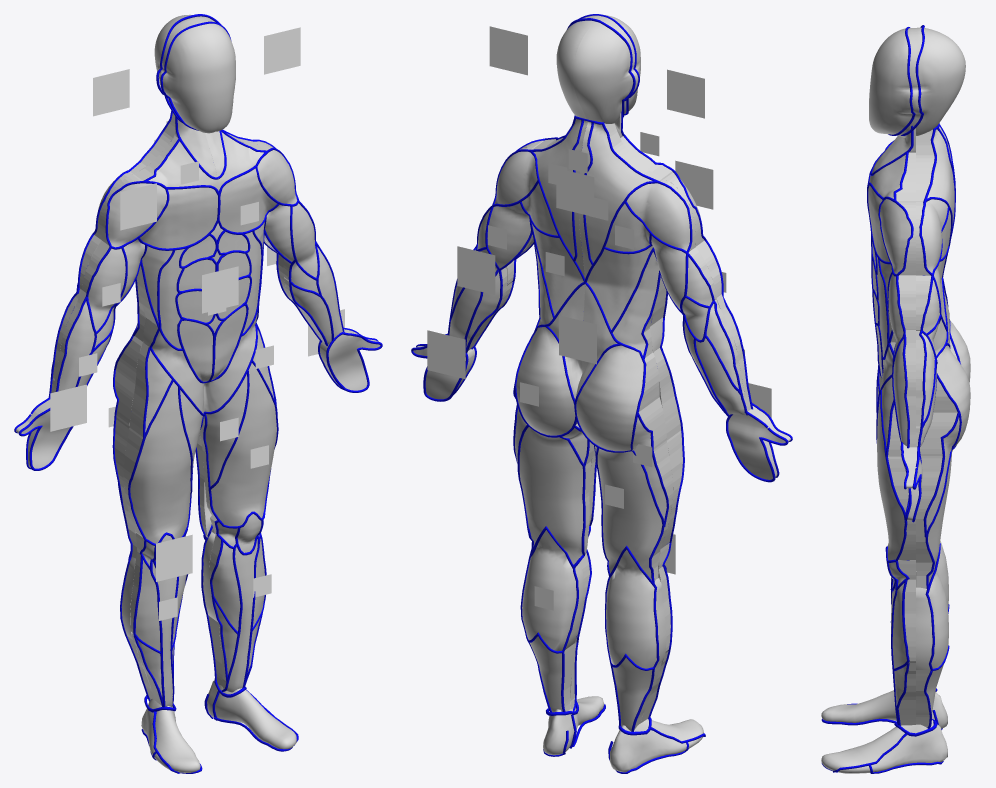
The model's file is male_07.glb.
3 renders of one model, left to right at view 1: azimuth 30°, elevation 25°; view 2: azimuth 150°, elevation 25°; view 3: azimuth 270°, elevation 25°, orthographic. The views are drawn at different scales.
Parts seen in each view (by area): view 1: quadriceps_r, head, quadriceps_l, pelvis_f, chest_r, trapecius_f, foot_l, foot_r, biceps_r, forarm1_r, chest_l, abducter_l (+39 smaller); view 2: head, hamstring_l, gluteus_r, hamstring_r, calves1_b_r, calves1_b_l, gluteus_l, trapecius_b_l, deltoid_b_r, foot_r, latisimusDorsi_b_r, abducter_r.001 (+38 smaller); view 3: head, foot_l, quadriceps_l, abducter_l.001, calves1_b_l, trapecius_b_r, deltoid_f_l, forarm1_l, gluteus_l, foot_r, deltoid_b_l, calves1_f_l (+31 smaller).
Boxes of the visible parts, x1,y1,x2,y2 form: quadriceps_r: [123, 382, 190, 543]; head: [154, 14, 235, 133]; quadriceps_l: [205, 363, 276, 526]; pelvis_f: [143, 312, 257, 413]; chest_r: [140, 187, 217, 248]; trapecius_f: [134, 132, 264, 190]; foot_l: [207, 680, 296, 749]; foot_r: [141, 698, 200, 772]; biceps_r: [82, 240, 125, 331]; forarm1_r: [52, 290, 94, 392]; chest_l: [219, 168, 276, 232]; abducter_l: [199, 374, 247, 487]; head: [556, 14, 640, 123]; hamstring_l: [519, 427, 591, 564]; gluteus_r: [576, 345, 659, 451]; hamstring_r: [597, 448, 668, 580]; calves1_b_r: [606, 549, 666, 668]; calves1_b_l: [522, 530, 584, 651]; gluteus_l: [516, 327, 577, 435]; trapecius_b_l: [585, 123, 661, 262]; deltoid_b_r: [626, 178, 695, 251]; foot_r: [610, 719, 703, 772]; latisimusDorsi_b_r: [587, 245, 652, 329]; abducter_r.001: [633, 397, 673, 524]; head: [869, 27, 965, 137]; foot_l: [821, 720, 947, 773]; quadriceps_l: [877, 395, 915, 560]; abducter_l.001: [916, 412, 959, 536]; calves1_b_l: [916, 569, 948, 669]; trapecius_b_r: [916, 129, 954, 226]; deltoid_f_l: [880, 199, 915, 275]; forarm1_l: [893, 330, 915, 447]; gluteus_l: [933, 345, 970, 446]; foot_r: [821, 690, 947, 728]; deltoid_b_l: [916, 199, 947, 275]; calves1_f_l: [892, 579, 915, 668].
Size of what is drawn, in the model's own units: 0.9903 by 1.85 by 0.3763.
